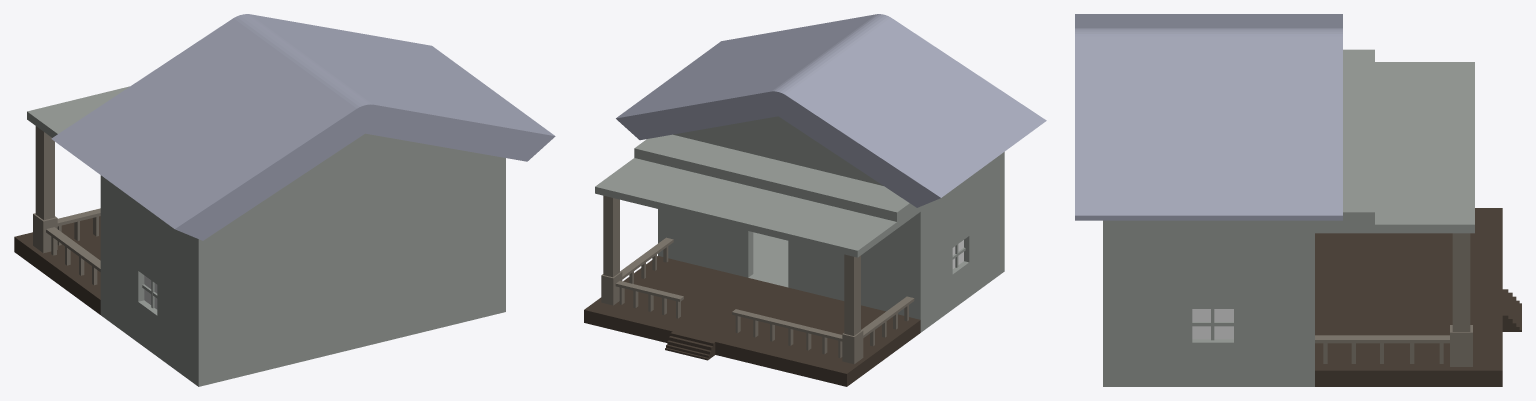
Rendered from cabin.fbx.
The picture shows the model from 3 angles, left to right: view 1: azimuth 30°, elevation 25°; view 2: azimuth 150°, elevation 25°; view 3: azimuth 270°, elevation 25°; orthographic projection. The views are drawn at different scales.
Visible parts, largest first — view 1: building.001, roof.001, patio.001, right pillar, right fence, front fence; view 2: building.001, roof.001, patio.001, front fence, right pillar, left pillar, right fence, left fence; view 3: building.001, roof.001, patio.001, left pillar, left fence, window.
Part boxes in pixels (x1,y1,x2,y2): building.001: (27, 86, 505, 386); roof.001: (51, 14, 555, 240); patio.001: (14, 216, 100, 314); right pillar: (33, 126, 57, 253); right fence: (46, 227, 100, 285); front fence: (57, 208, 100, 245); building.001: (595, 116, 1004, 332); roof.001: (616, 14, 1046, 207); patio.001: (584, 256, 920, 386); front fence: (615, 281, 842, 358); right pillar: (842, 254, 863, 364); left pillar: (601, 195, 622, 305); right fence: (861, 296, 914, 346); left fence: (620, 237, 673, 283); building.001: (1103, 49, 1474, 386); roof.001: (1075, 14, 1342, 220); patio.001: (1315, 208, 1521, 386); left pillar: (1450, 233, 1472, 366); left fence: (1315, 335, 1449, 363); window: (1192, 309, 1233, 339).
Size of the model in its own units: 1347 by 856 by 1262.
